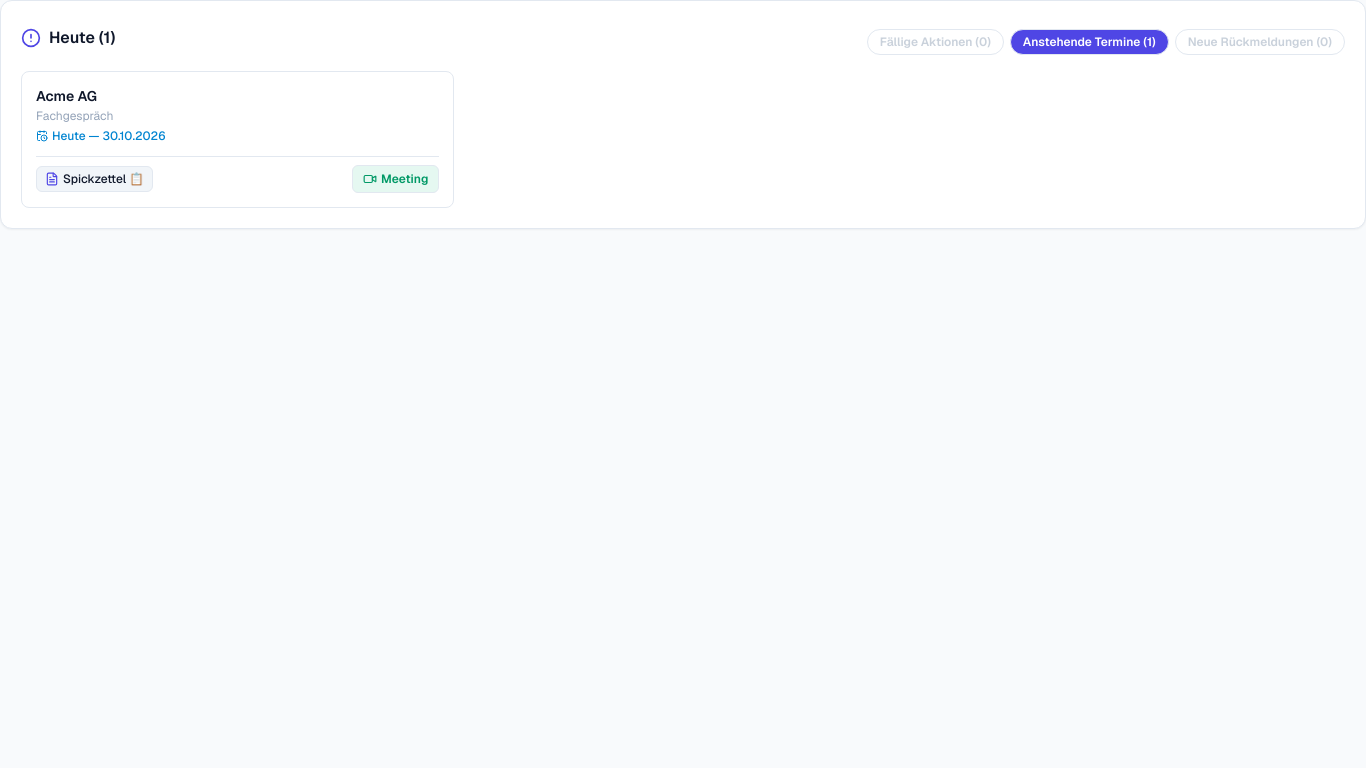
Test case: TodayOverviewCard › öffnet das Quick-Sheet Modal beim Klick auf Spickzettel
This screenshot has width=1366, height=768.
Click the button "Spickzettel 📋" at (95, 179), box [36,166,153,192]
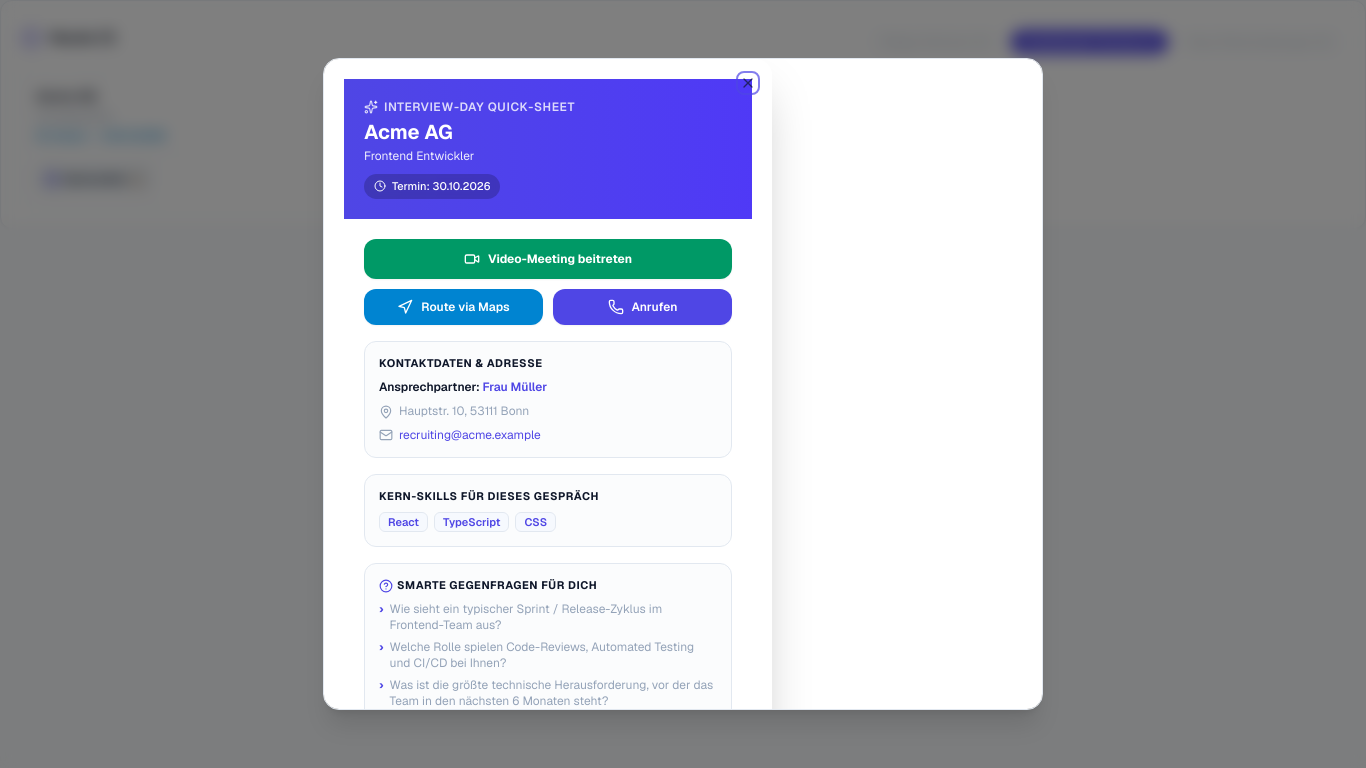
Result: the text "Interview-Day Quick-Sheet" is shown at [364,99,575,115]
